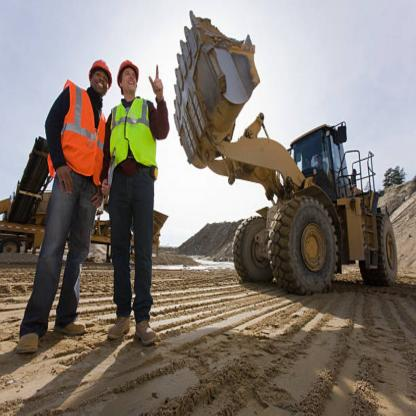bull_dozer/loader/grader: (172, 9, 407, 302)
person: (12, 41, 106, 364), (102, 38, 185, 363)
